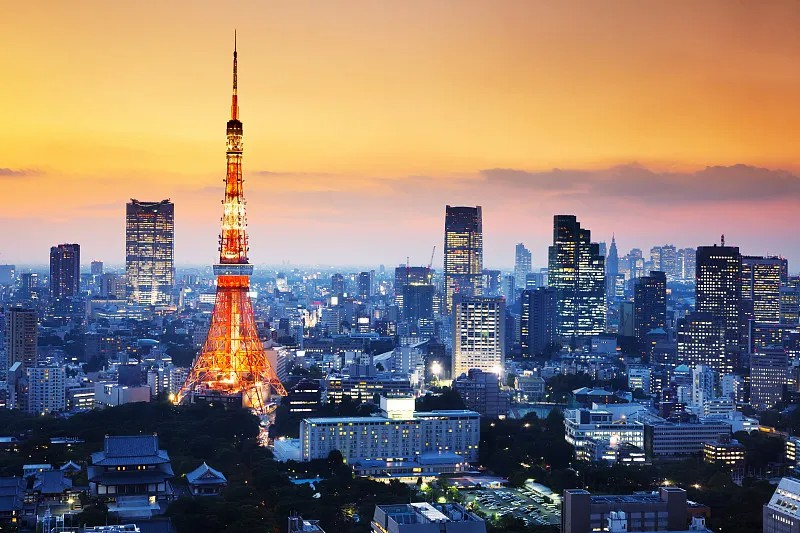Tokyo: (172, 23, 291, 405)
